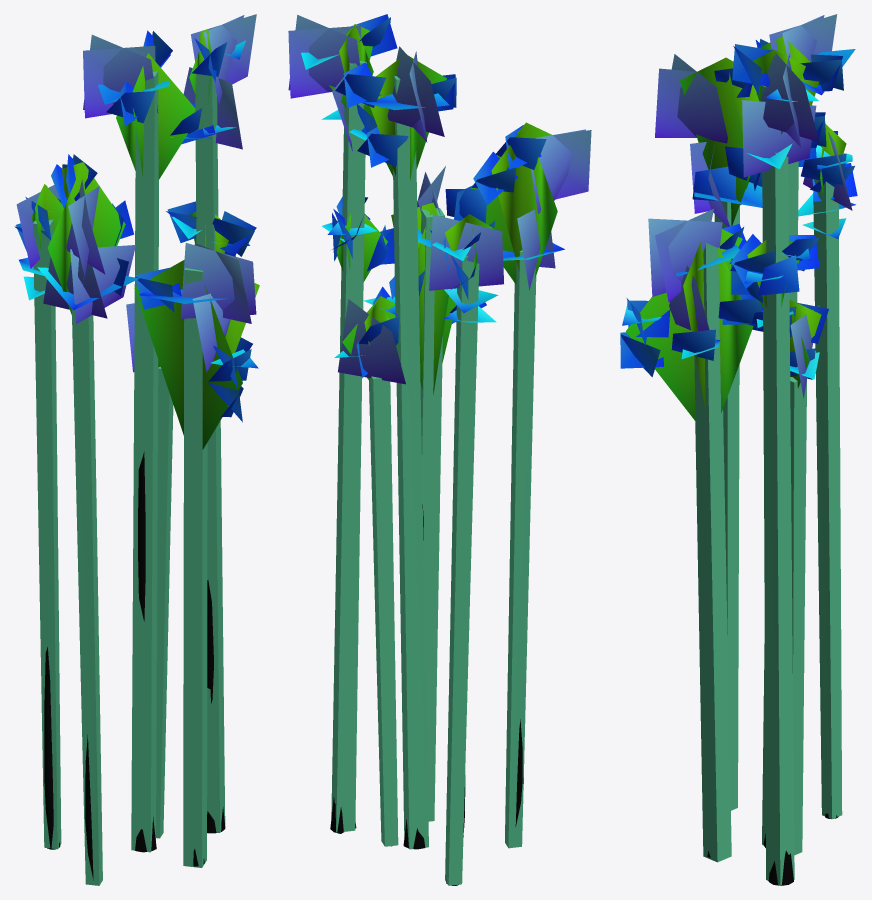
File: tree_aspen_forest_group.dae
The picture shows the model from 3 angles, left to right: view 1: azimuth 30°, elevation 25°; view 2: azimuth 150°, elevation 25°; view 3: azimuth 270°, elevation 25°; orthographic projection. The views are drawn at different scales.
Parts seen in each view (by area): view 1: Colmesh-1, tree_oak_bush_a250, tree_oak_bush_a450; view 2: Colmesh-1, tree_oak_bush_a450, tree_oak_bush_a250; view 3: Colmesh-1, tree_oak_bush_a250, tree_oak_bush_a450.
Boxes of the visible parts, x1,y1,x2,y2 form: Colmesh-1: [33, 71, 225, 885]; tree_oak_bush_a250: [14, 14, 259, 449]; tree_oak_bush_a450: [16, 29, 258, 880]; Colmesh-1: [331, 60, 536, 885]; tree_oak_bush_a450: [301, 14, 588, 885]; tree_oak_bush_a250: [288, 15, 591, 394]; Colmesh-1: [694, 85, 842, 885]; tree_oak_bush_a250: [620, 14, 857, 408]; tree_oak_bush_a450: [620, 14, 855, 885].
Bounding box in the file's own units: 5.52 × 4.57 × 17.63.
